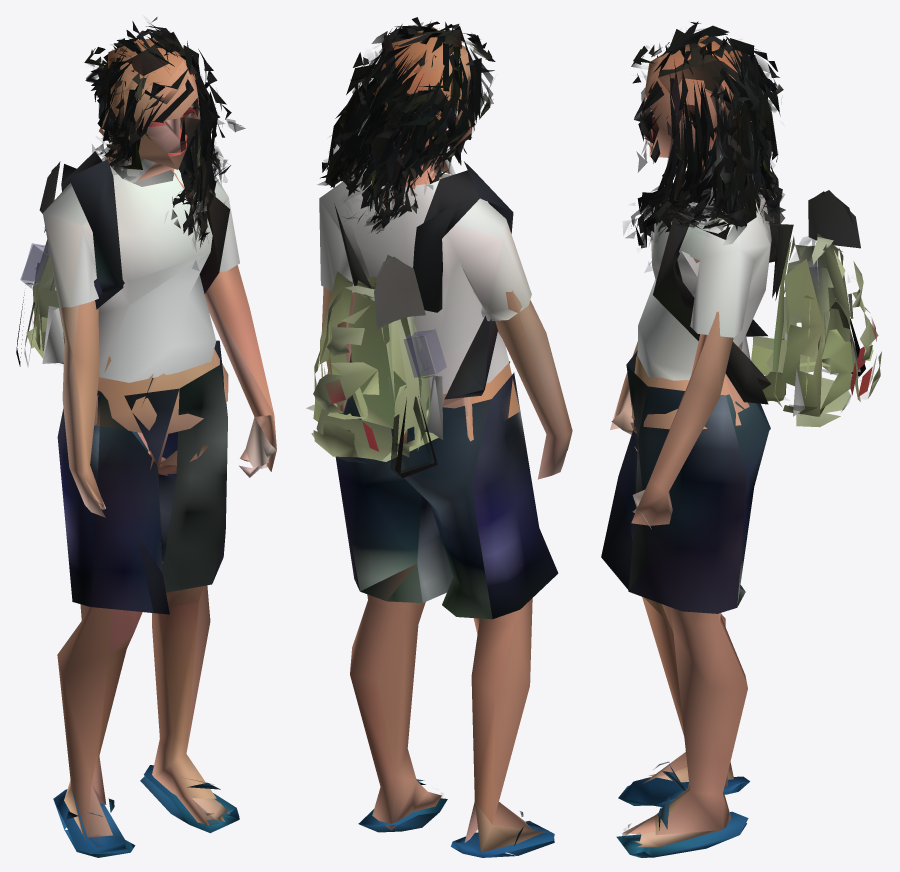
3 renders of one model, left to right at view 1: azimuth 30°, elevation 25°; view 2: azimuth 150°, elevation 25°; view 3: azimuth 270°, elevation 25°, orthographic. The views are drawn at different scales.
Visible parts, largest first — view 1: p02782; view 2: p02782; view 3: p02782.
Boxes of the visible parts, <box> form: p02782: <box>16,17,276,857</box>; p02782: <box>306,17,572,857</box>; p02782: <box>601,21,881,857</box>.
Size of the model in its own units: 0.4407 by 1.58 by 0.5072.
1 material, 1 textured.
